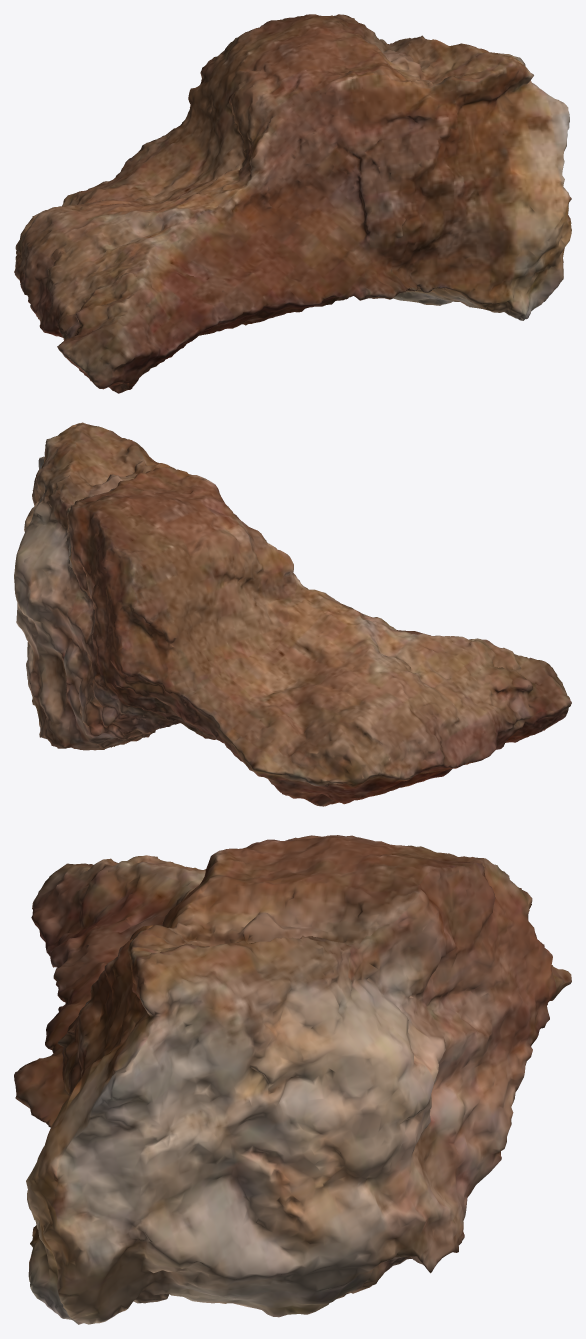
The picture shows the model from 3 angles, top to bottom: view 1: azimuth 30°, elevation 25°; view 2: azimuth 150°, elevation 25°; view 3: azimuth 270°, elevation 25°; orthographic projection. The views are drawn at different scales.
Parts seen in each view (by area): view 1: stone_01; view 2: stone_01; view 3: stone_01.
Part boxes in pixels (x1=…): stone_01: x1=14, y1=14, x2=571, y2=393; stone_01: x1=14, y1=422, x2=571, y2=806; stone_01: x1=14, y1=835, x2=571, y2=1324.
Size of the model in its own units: 0.1469 by 0.0718 by 0.0891.
1 material, 1 textured.
